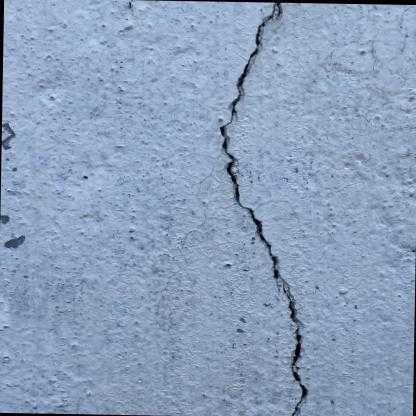crack: (215, 1, 311, 416)
